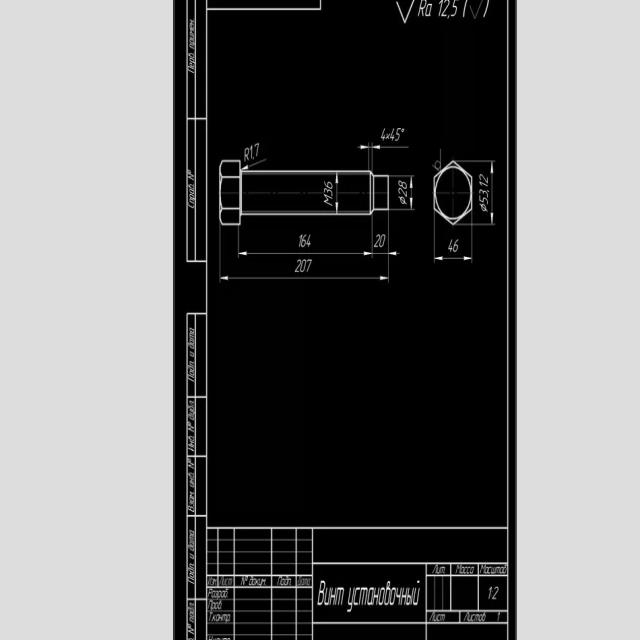marking_line: (239, 249, 372, 257), (221, 274, 390, 280), (488, 160, 496, 226), (435, 254, 477, 262), (356, 146, 412, 150), (409, 175, 415, 212), (388, 251, 400, 259)
numeric: (241, 144, 264, 163), (380, 128, 409, 143), (478, 175, 490, 204), (323, 182, 336, 207), (295, 259, 314, 275), (396, 178, 409, 198), (298, 234, 313, 248), (373, 232, 386, 248), (446, 239, 460, 252)
special_symbol: (477, 202, 489, 215), (397, 195, 407, 206)
